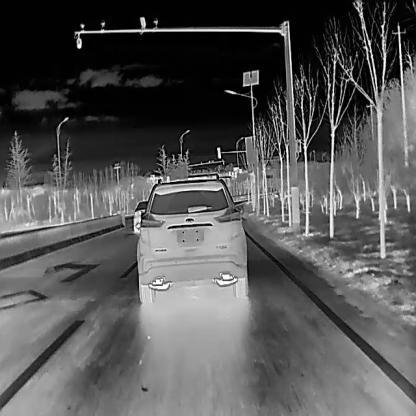car: (135, 175, 249, 303), (133, 199, 150, 232)
